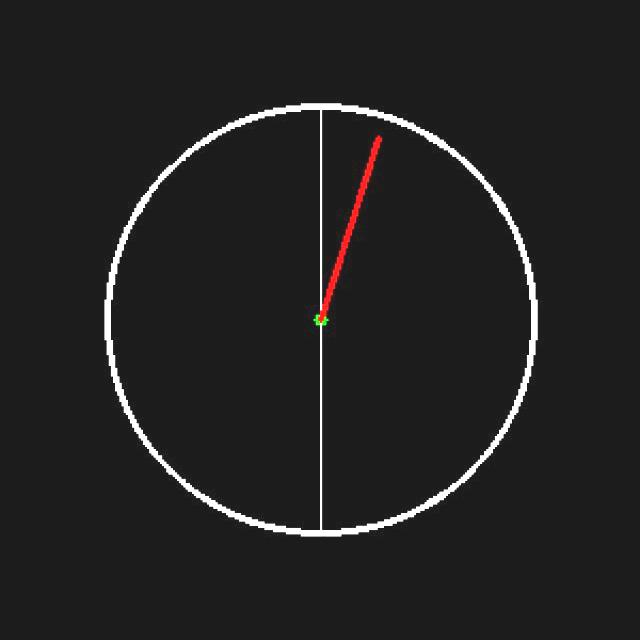Needle_Tip: (353, 130, 399, 172)
Needle_base: (299, 284, 361, 357)
